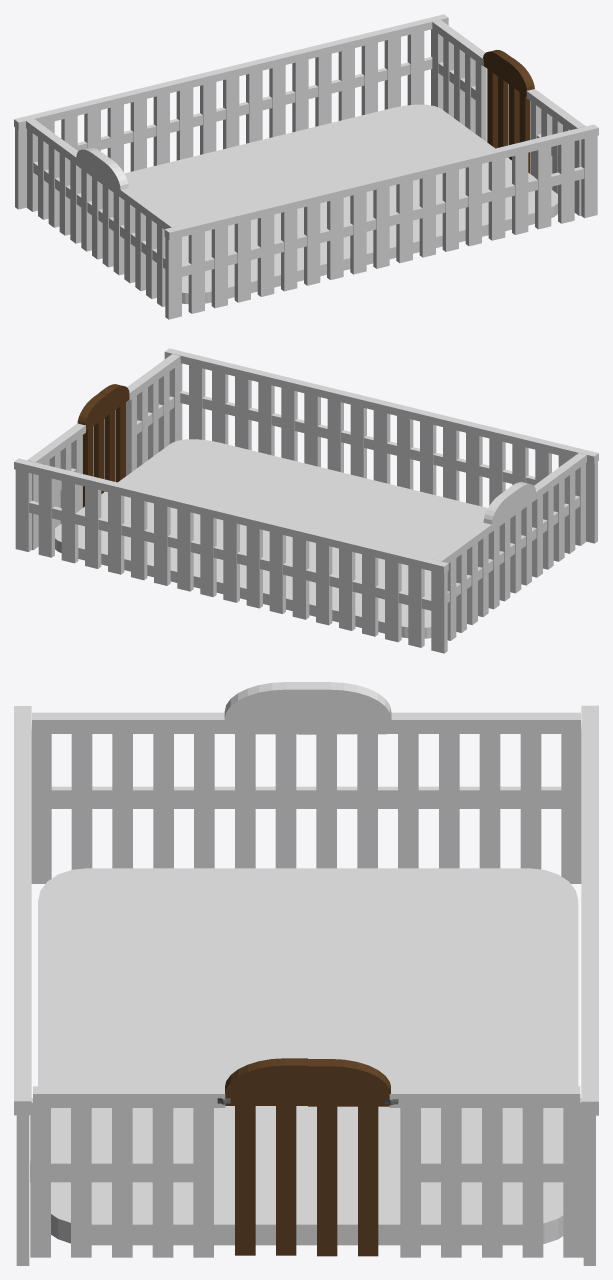
Rendered from Crib003.fbx.
3 renders of one model, top to bottom at view 1: azimuth 30°, elevation 25°; view 2: azimuth 150°, elevation 25°; view 3: azimuth 270°, elevation 25°, orthographic. The views are drawn at different scales.
Visible parts, largest first — view 1: Bed, Bed.001, Cube.009, Cube.008; view 2: Bed, Bed.001, Cube.008, Cube.009; view 3: Bed.001, Bed, Cube.009, Cube.008.
Boxes of the visible parts, x1=… form: Bed: x1=14, y1=14, x2=598, y2=319; Bed.001: x1=124, y1=104, x2=557, y2=304; Cube.009: x1=483, y1=50, x2=511, y2=157; Cube.008: x1=505, y1=58, x2=534, y2=173; Bed: x1=14, y1=348, x2=598, y2=653; Bed.001: x1=55, y1=439, x2=487, y2=638; Cube.008: x1=99, y1=384, x2=129, y2=491; Cube.009: x1=77, y1=392, x2=107, y2=507; Bed.001: x1=38, y1=868, x2=578, y2=1245; Bed: x1=14, y1=682, x2=598, y2=1265; Cube.009: x1=308, y1=1059, x2=397, y2=1256; Cube.008: x1=217, y1=1058, x2=307, y2=1255.
Bounding box in the file's own units: 1123 × 259 × 702.
